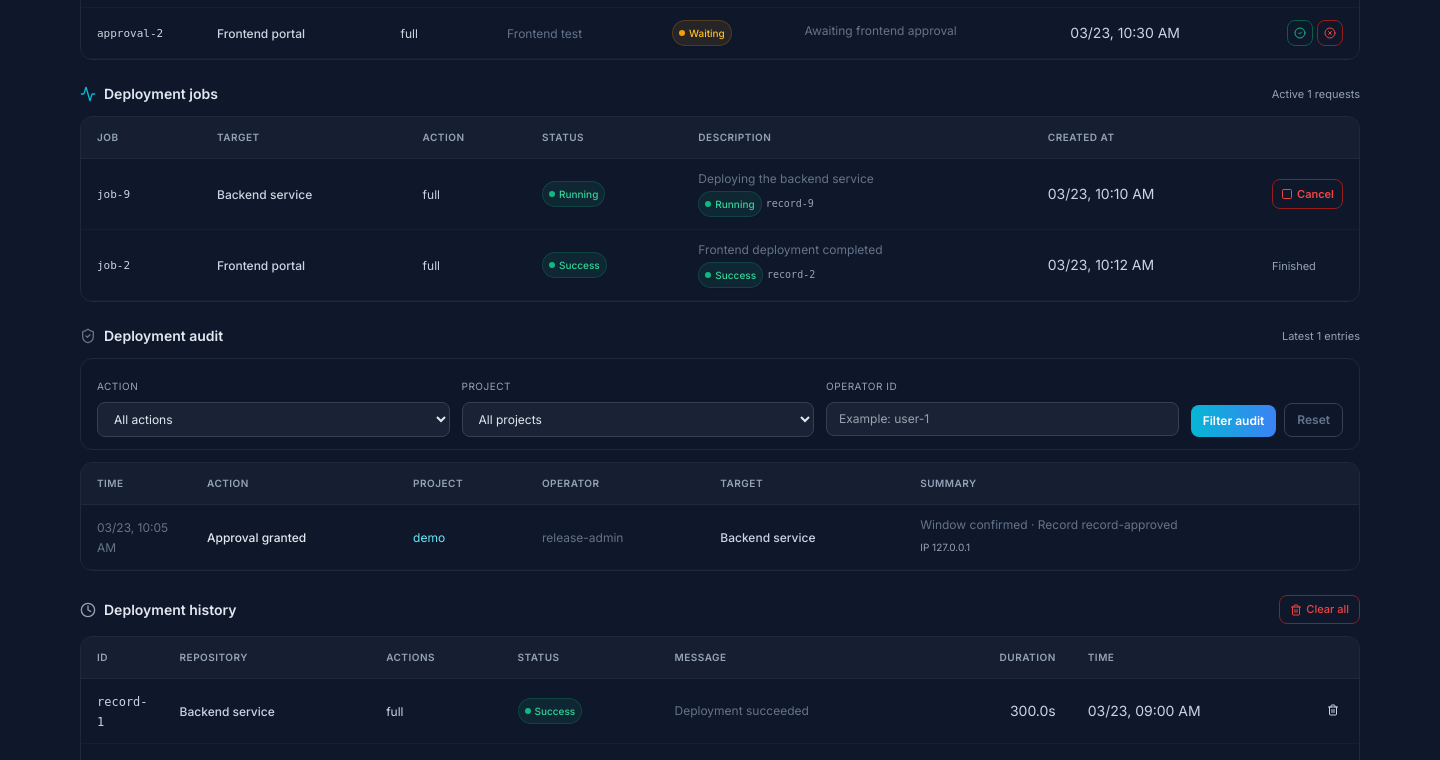
Scenario: DeployPage › supports filtering deployment audits and viewing details
(page scrolled)
Check: the heading "Deployment audit" is shown, box top-left (80, 326), bottom-right (223, 346)
Select "Cancel job" in the dropdown named "Filter audit actions": (273, 420) top-left (97, 402), bottom-right (450, 437)
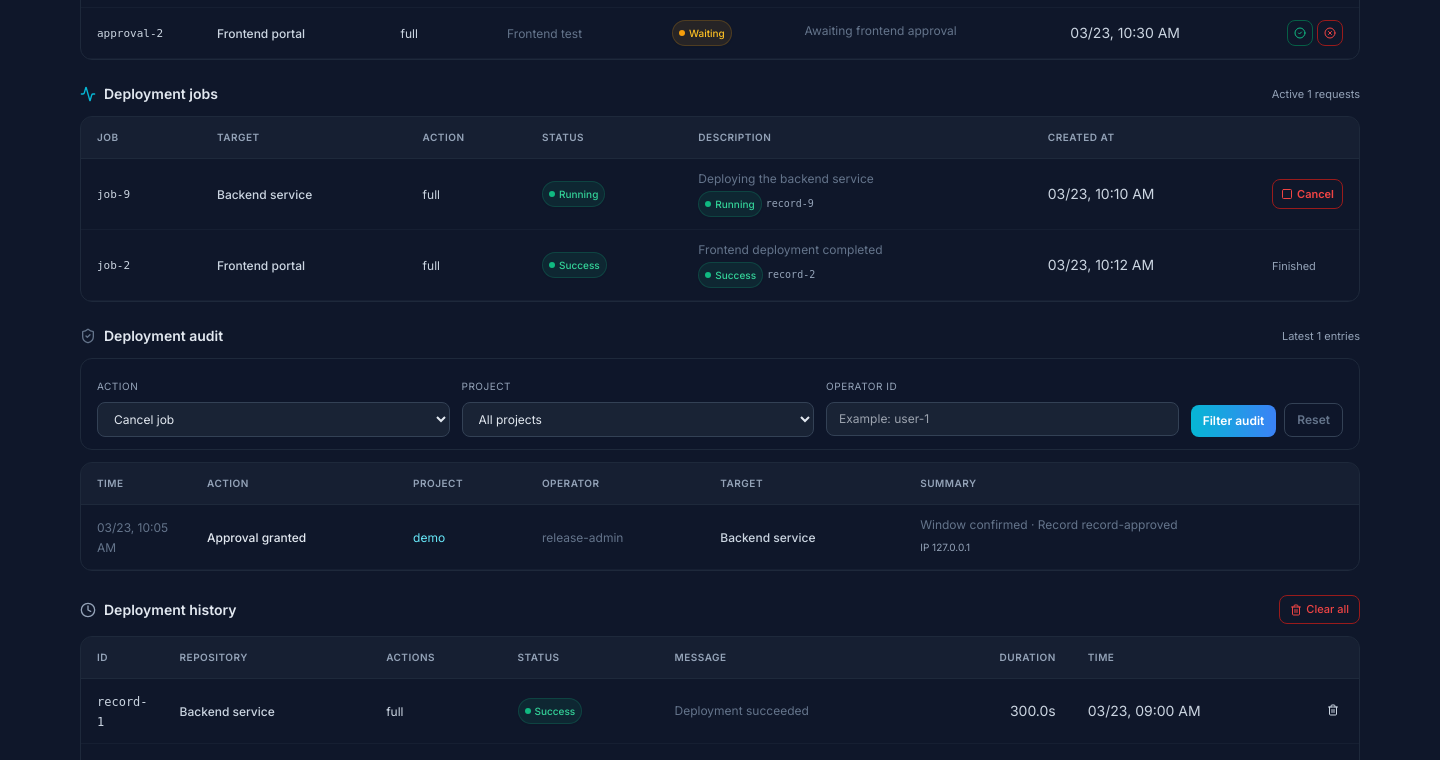
In the field named "Filter audit operators": (1002, 419) top-left (826, 402), bottom-right (1179, 436), type "user-2"
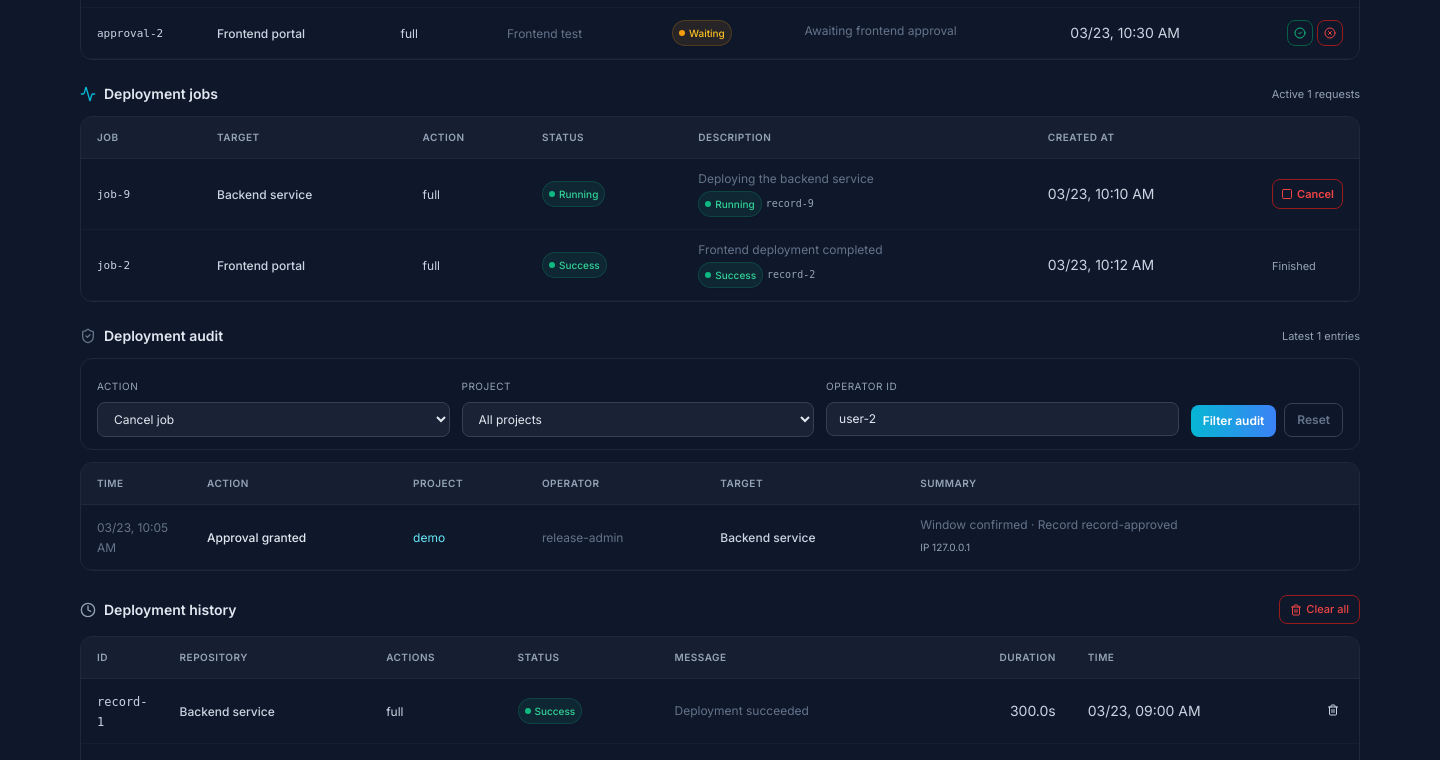
Click the button "Filter audit": (1234, 421) top-left (1191, 405), bottom-right (1276, 437)
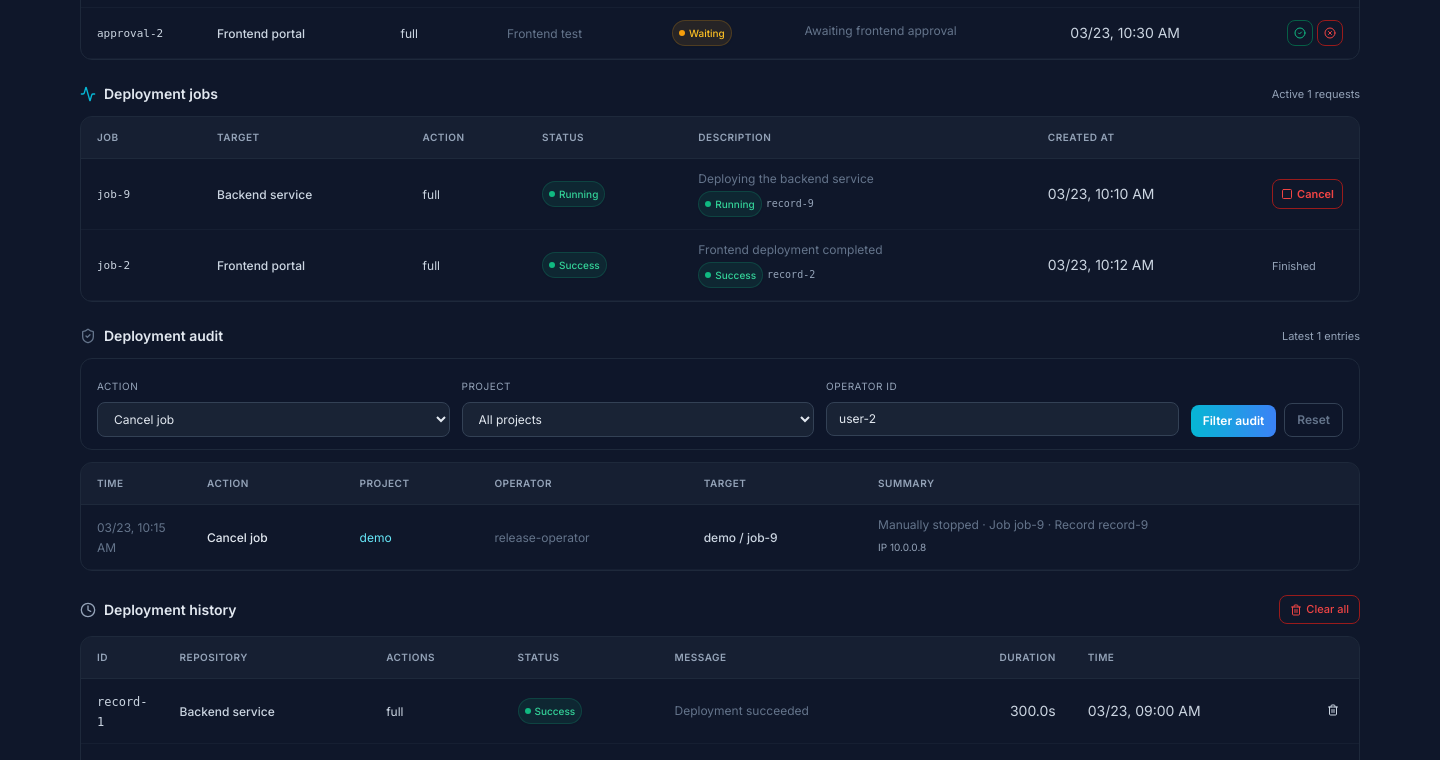
Check: the text "release-operator" is shown
Click the text "release-operator": (542, 538) top-left (494, 530), bottom-right (590, 545)
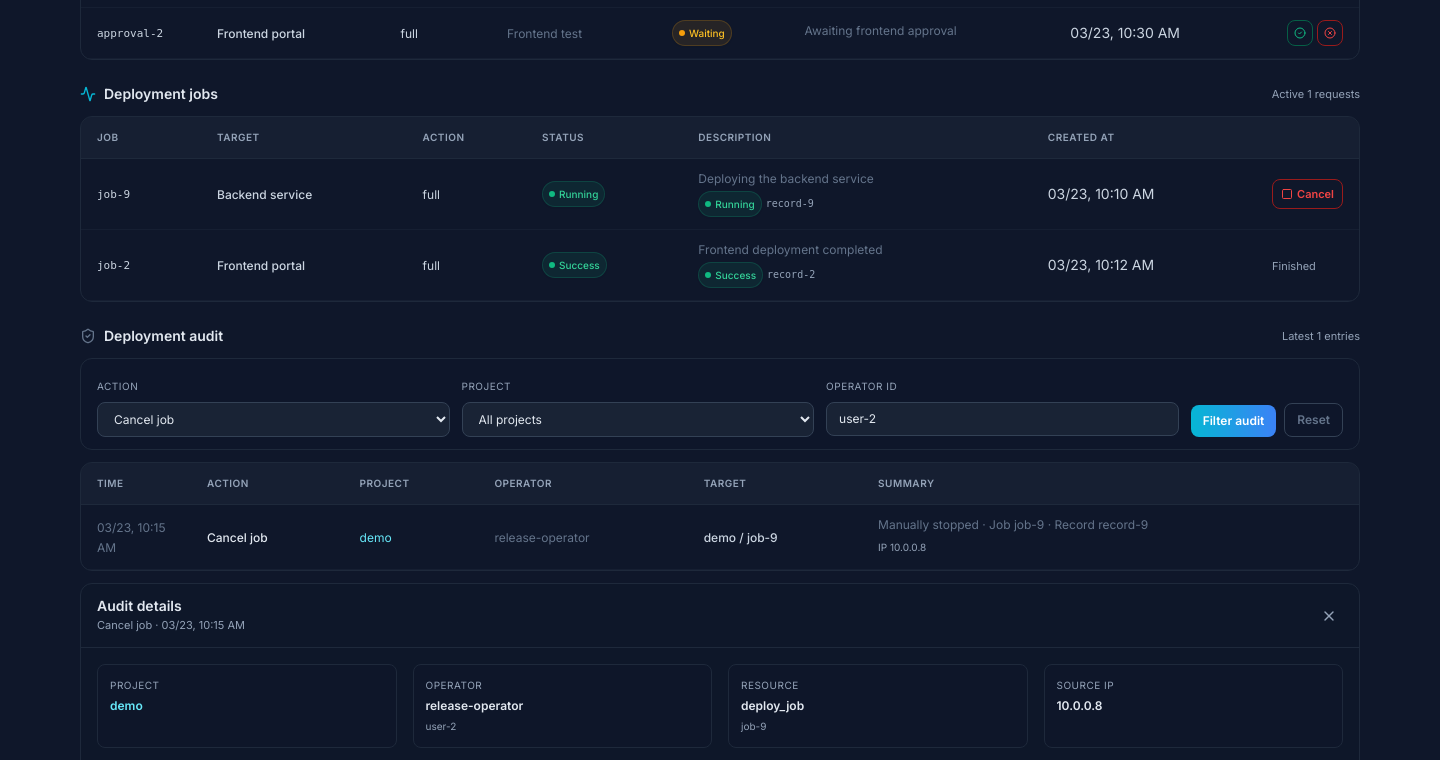
Check: the text "release-operator" next to "demo / job-9" is shown, box top-left (494, 530), bottom-right (590, 545)
Check: the text "Manually stopped · Job job-9 · Record record-9" is shown, box top-left (878, 517), bottom-right (1148, 532)
Check: the heading "Audit details" is shown, box top-left (97, 597), bottom-right (182, 614)
